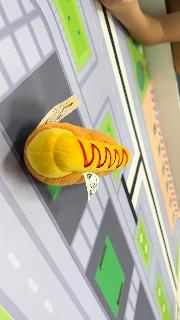hotdog: (23, 122, 131, 188)
